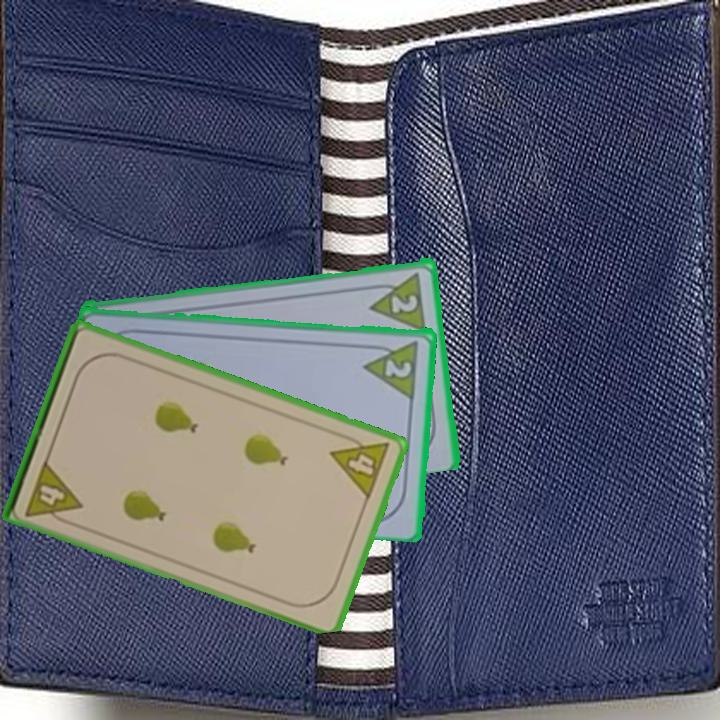2p: (361, 336, 422, 400), (388, 290, 421, 316)
4p: (327, 428, 393, 502), (21, 456, 85, 529)
